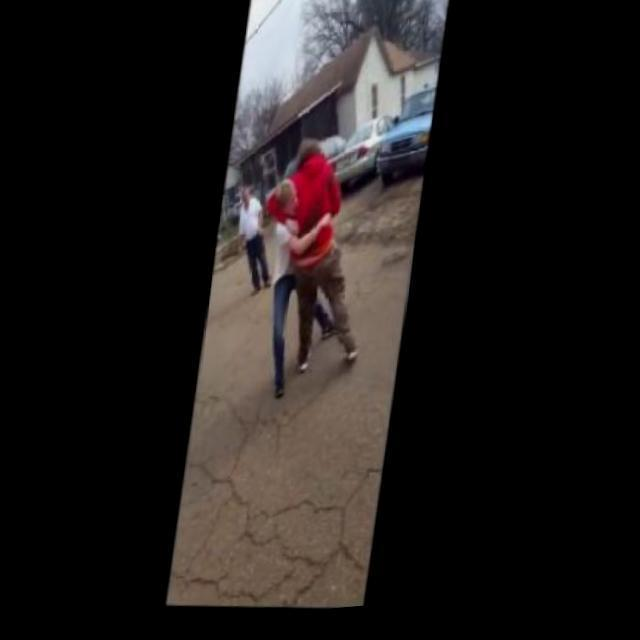fight: (251, 138, 365, 402)
